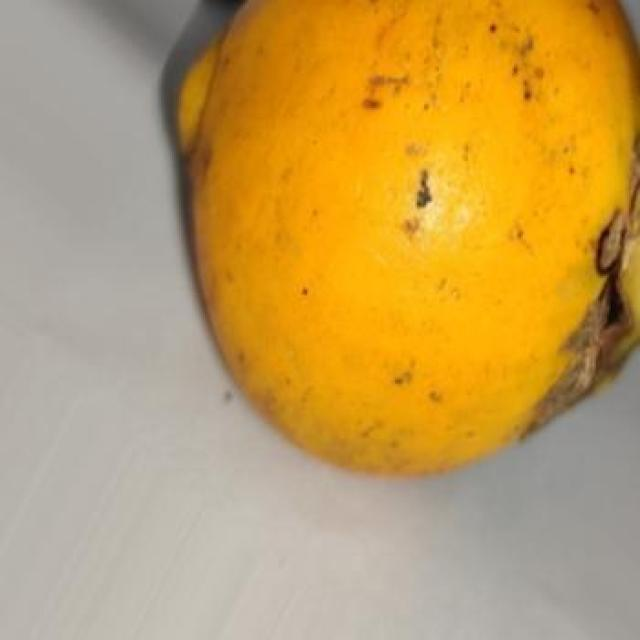good: (161, 0, 638, 479)
